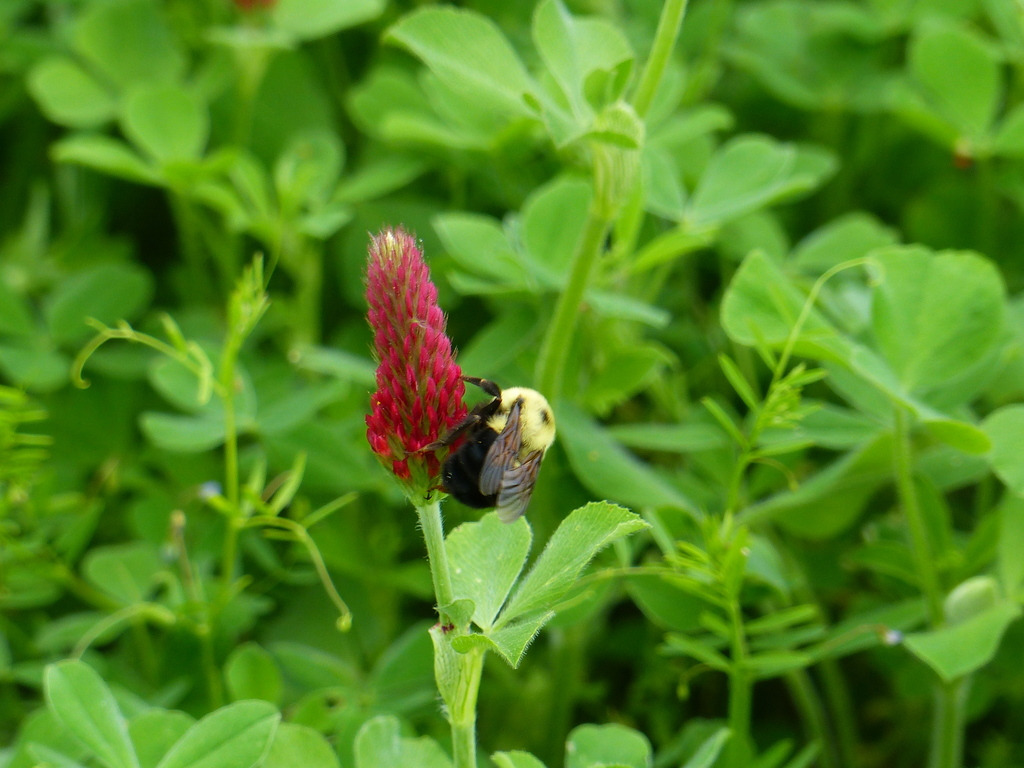bumblebee: (404, 372, 558, 527)
